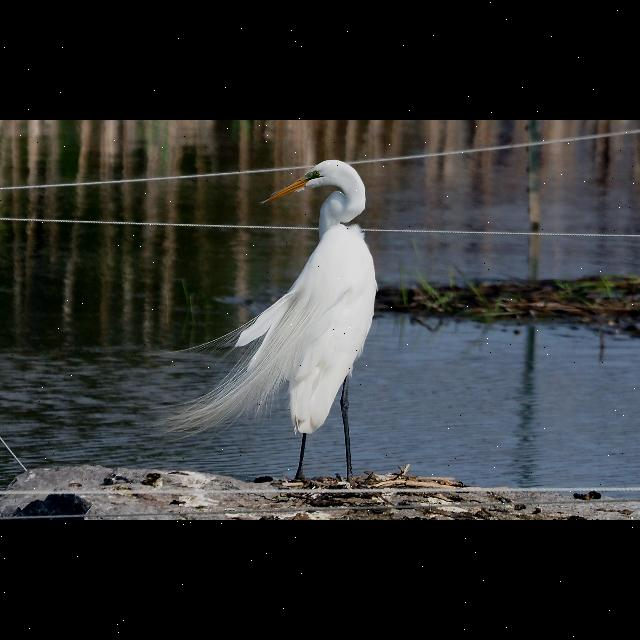egret: (232, 157, 376, 471)
